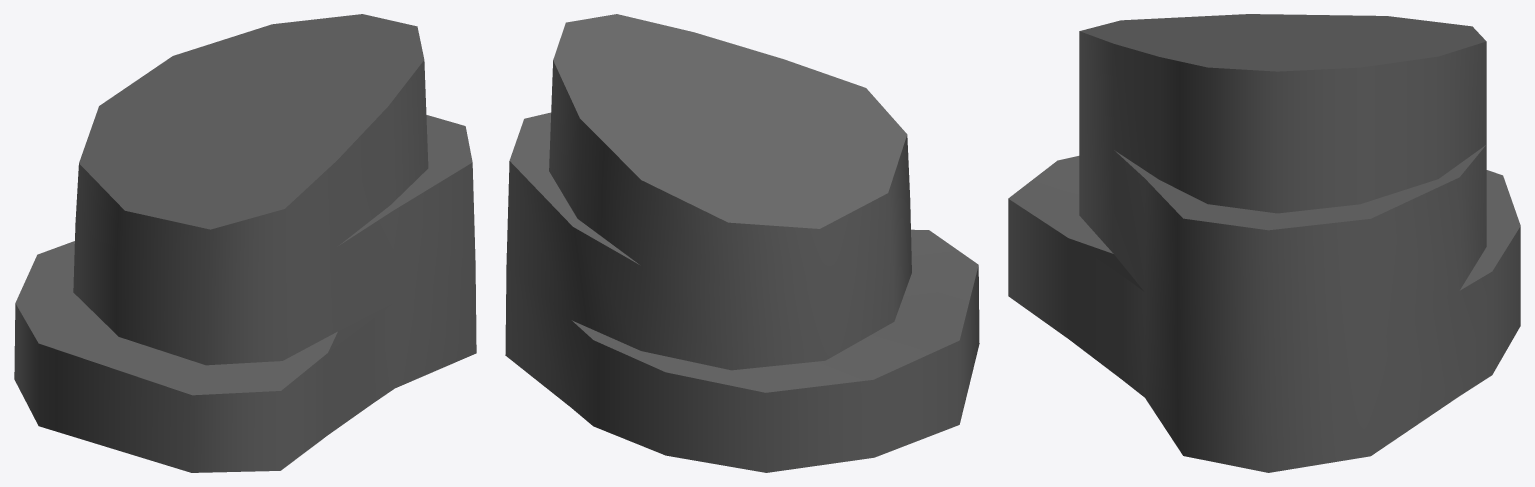
File: StoneSeat01.fbx
3 views of the same model, side by side, from view 1: azimuth 30°, elevation 25°; view 2: azimuth 150°, elevation 25°; view 3: azimuth 270°, elevation 25° (orthographic). The views are drawn at different scales.
Parts seen in each view (by area): view 1: StoneSeat01; view 2: StoneSeat01; view 3: StoneSeat01.
Part boxes in pixels (x1,y1,x2,y2): StoneSeat01: (14, 14, 476, 472); StoneSeat01: (505, 14, 979, 472); StoneSeat01: (1008, 14, 1520, 472).
Size of the model in its own units: 68.34 by 45.97 by 57.4.
1 material, 1 textured.
